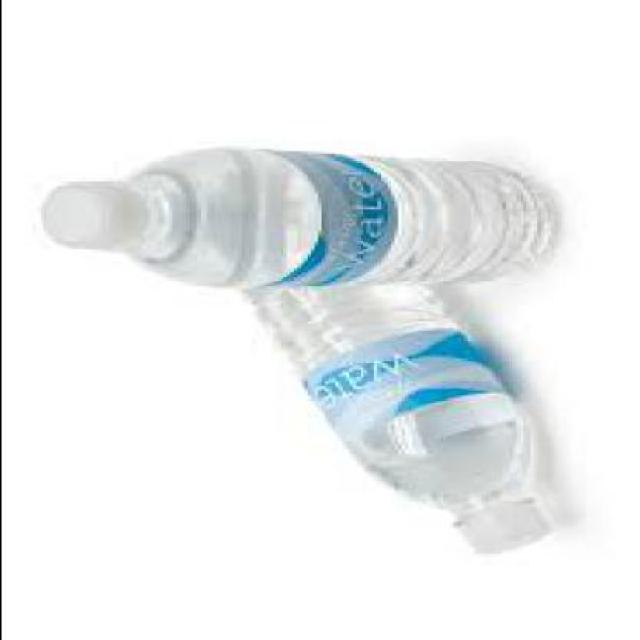PLASTIC: (233, 281, 550, 554), (38, 153, 550, 292), (296, 330, 512, 438), (258, 155, 393, 291), (39, 181, 146, 254), (448, 498, 540, 559)
